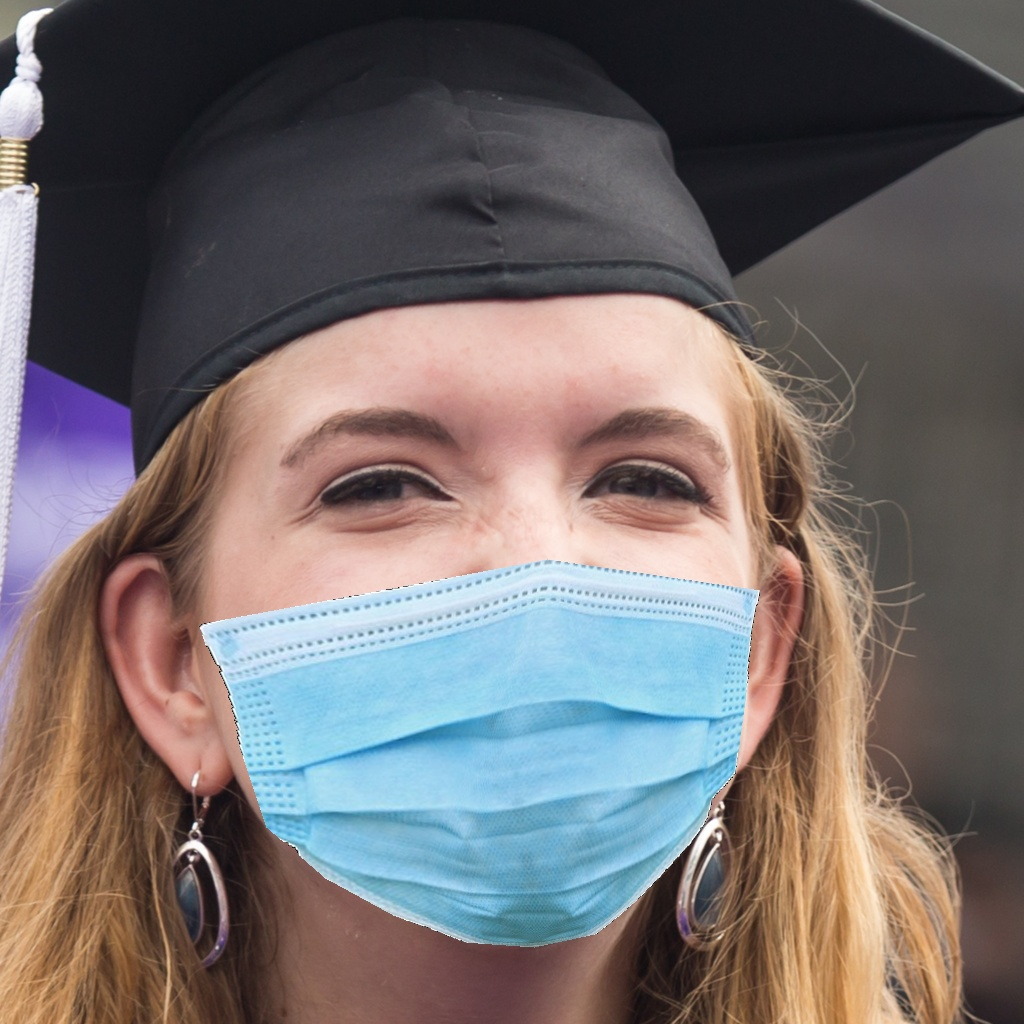Mask: (199, 385, 780, 950)
